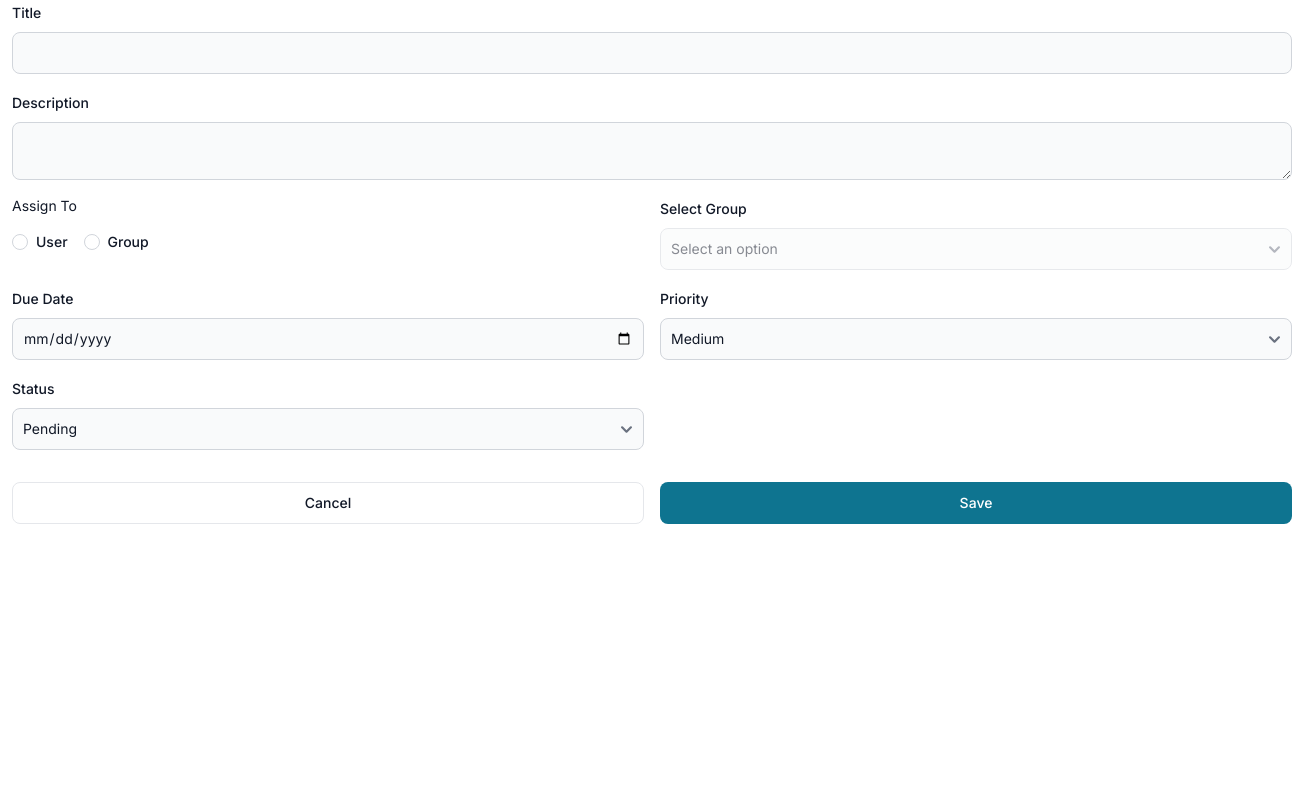
Test: TaskForm Component › should display validation errors when form is submitted empty
The image size is (1304, 800).
Click the button "Save". click: (976,503)
box: [660,482,1292,524]
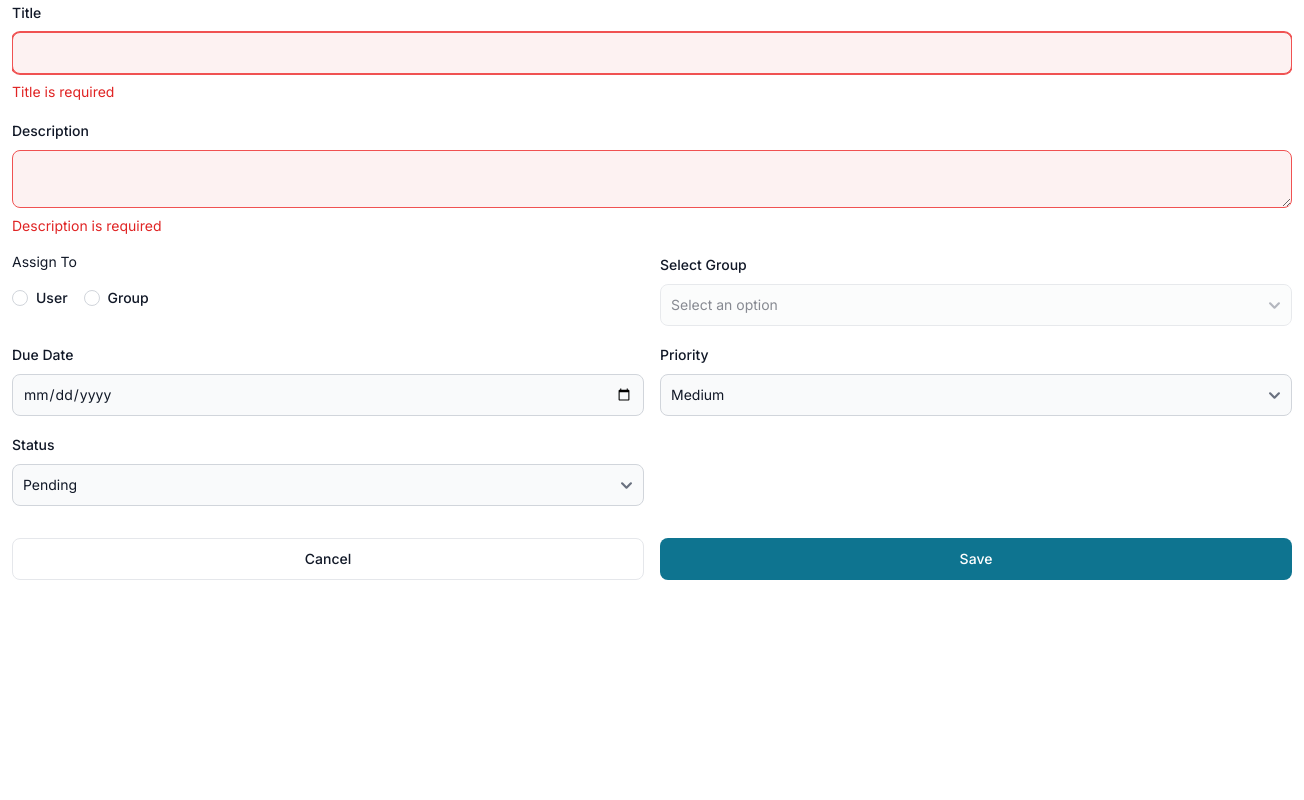
expect the text "Title is required" is shown: met, box [12,83,114,100]
expect the text "Description is required" is shown: met, box [12,217,162,234]
